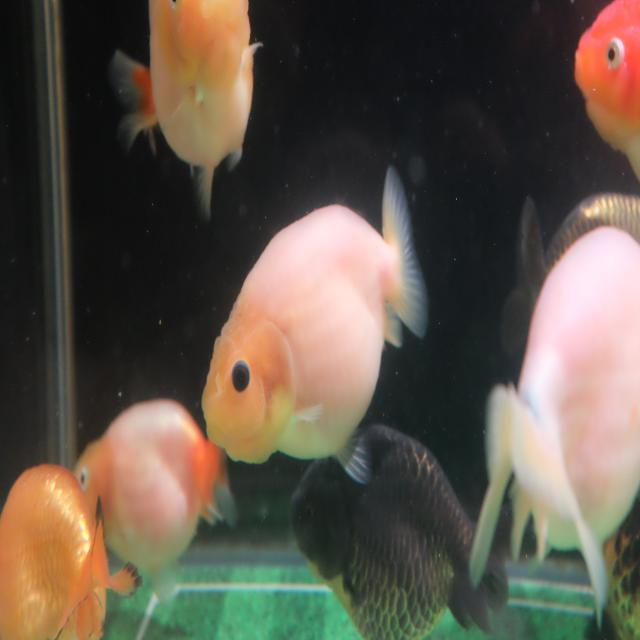Tilapia: (201, 164, 431, 487), (468, 226, 640, 631), (287, 420, 510, 640), (106, 0, 262, 222), (72, 396, 235, 604), (0, 461, 143, 640), (572, 0, 640, 182)
